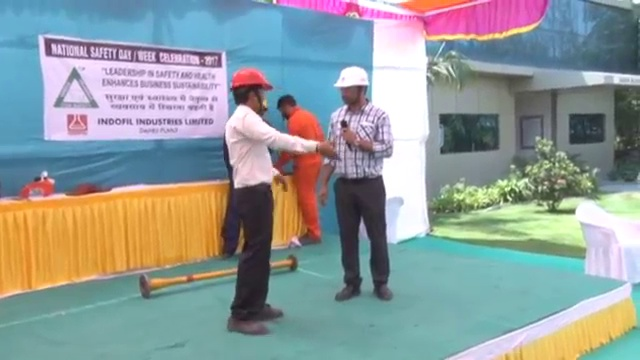helmet: (230, 67, 276, 92), (331, 64, 373, 88)
helmet_off: (276, 93, 299, 119)
helmet_on: (228, 67, 274, 117), (331, 64, 372, 112)
person: (318, 65, 394, 301), (222, 65, 285, 338), (275, 92, 325, 246)
